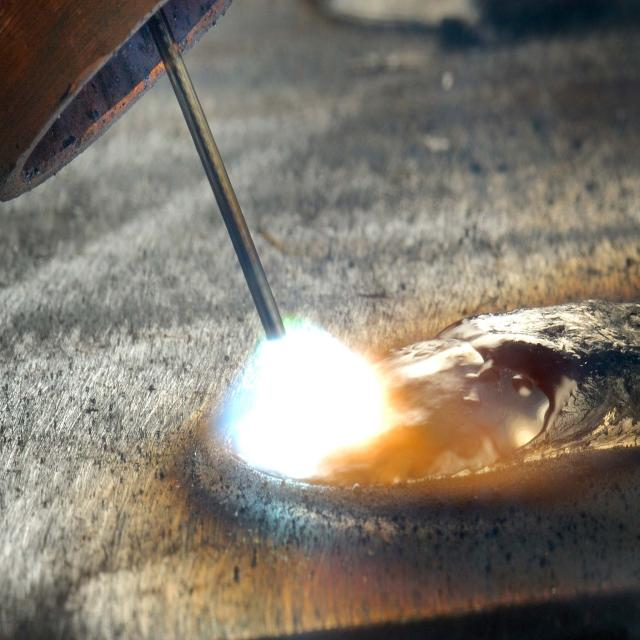welding: (224, 317, 389, 470)
